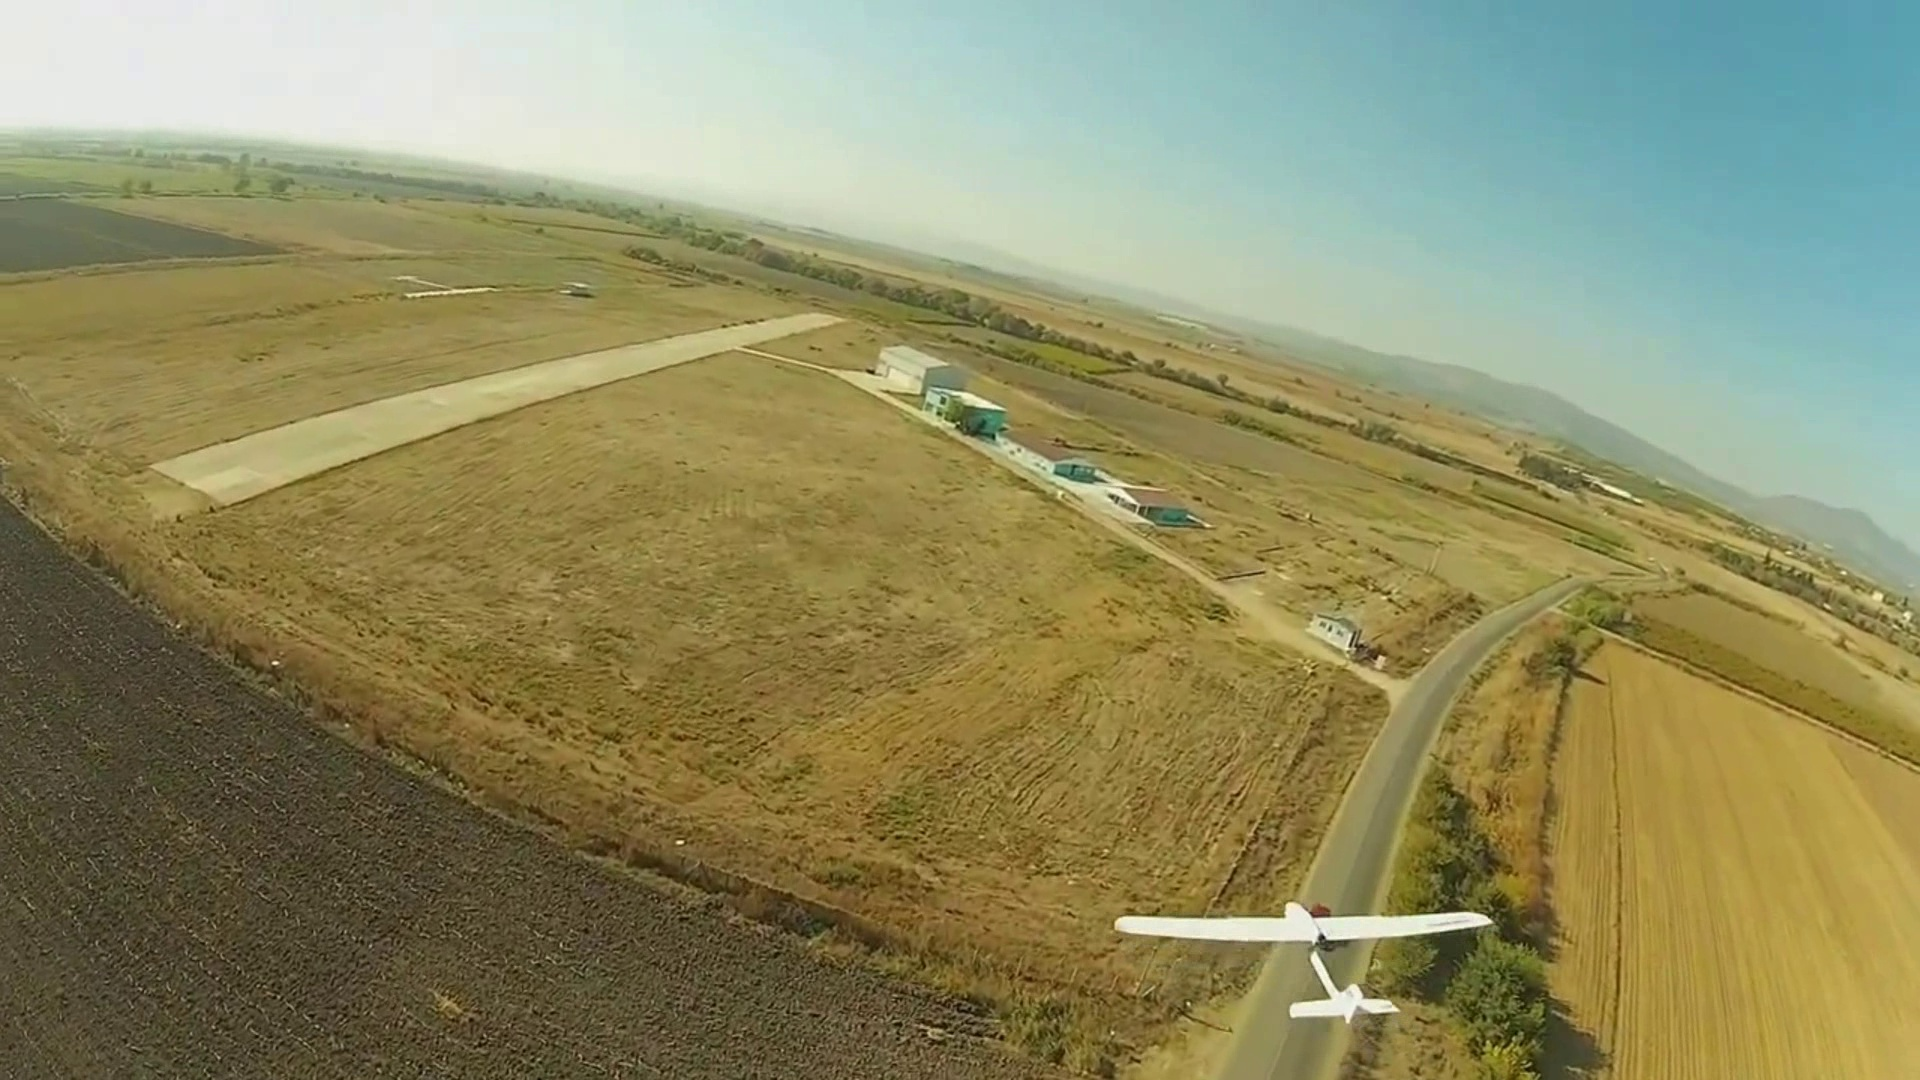airplane: (1109, 563, 1918, 1077)
